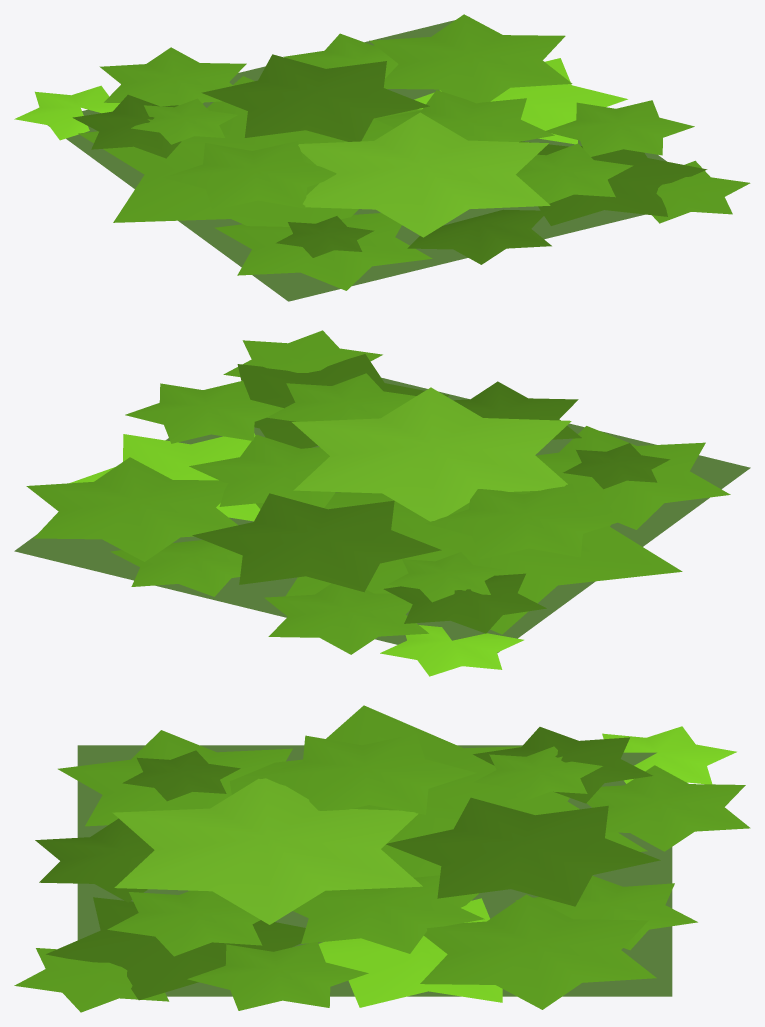
The model's file is GrassTile.fbx.
The picture shows the model from 3 angles, top to bottom: view 1: azimuth 30°, elevation 25°; view 2: azimuth 150°, elevation 25°; view 3: azimuth 270°, elevation 25°; orthographic projection. The views are drawn at different scales.
Parts seen in each view (by area): view 1: GrassTile; view 2: GrassTile; view 3: GrassTile.
Part boxes in pixels (x1,y1,x2,y2): GrassTile: (14, 14, 750, 301); GrassTile: (14, 330, 750, 676); GrassTile: (14, 705, 750, 1012).
Size of the model in its own units: 1.24 by 0.0612 by 1.24.
